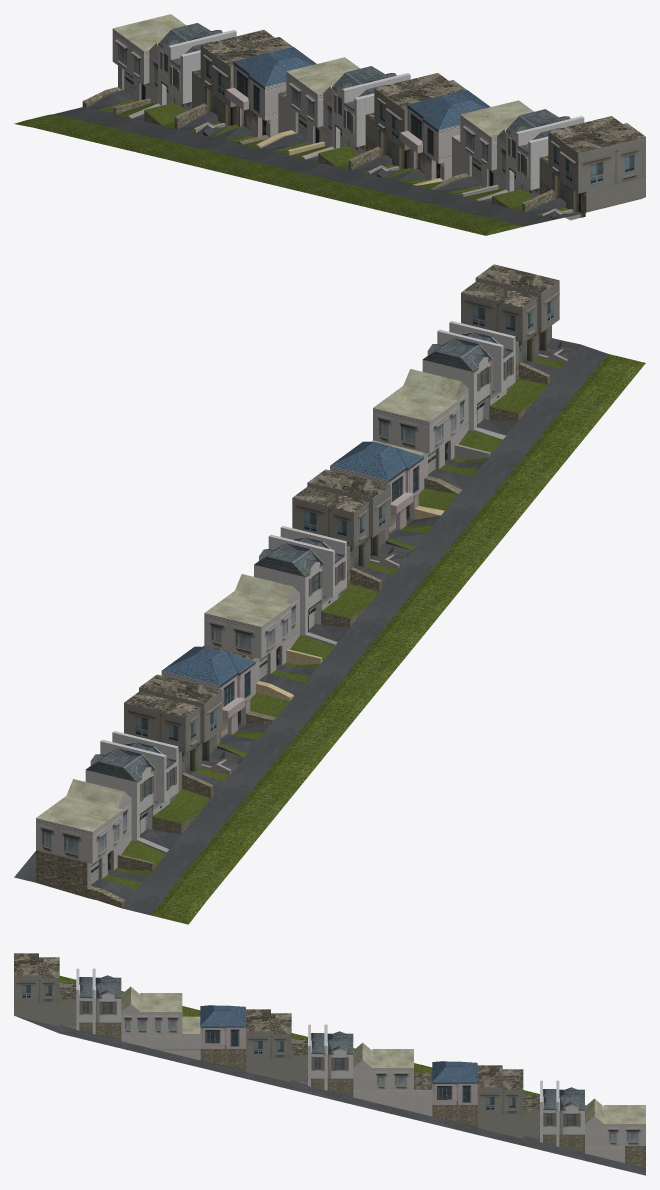
The model's file is sboxbld4_sfw84.obj.
3 renders of one model, top to bottom at view 1: azimuth 30°, elevation 25°; view 2: azimuth 150°, elevation 25°; view 3: azimuth 270°, elevation 25°, orthographic. The views are drawn at different scales.
Visible parts, largest first — view 1: sboxbld4_sfw84; view 2: sboxbld4_sfw84; view 3: sboxbld4_sfw84.
Boxes of the visible parts, left/top/right/bottom form: sboxbld4_sfw84: left=14, top=14, right=645, bottom=235; sboxbld4_sfw84: left=14, top=264, right=645, bottom=924; sboxbld4_sfw84: left=14, top=953, right=645, bottom=1175.
Size of the model in its own units: 22.13 by 34.67 by 101.
Materials: 18 (17 with a texture image).
